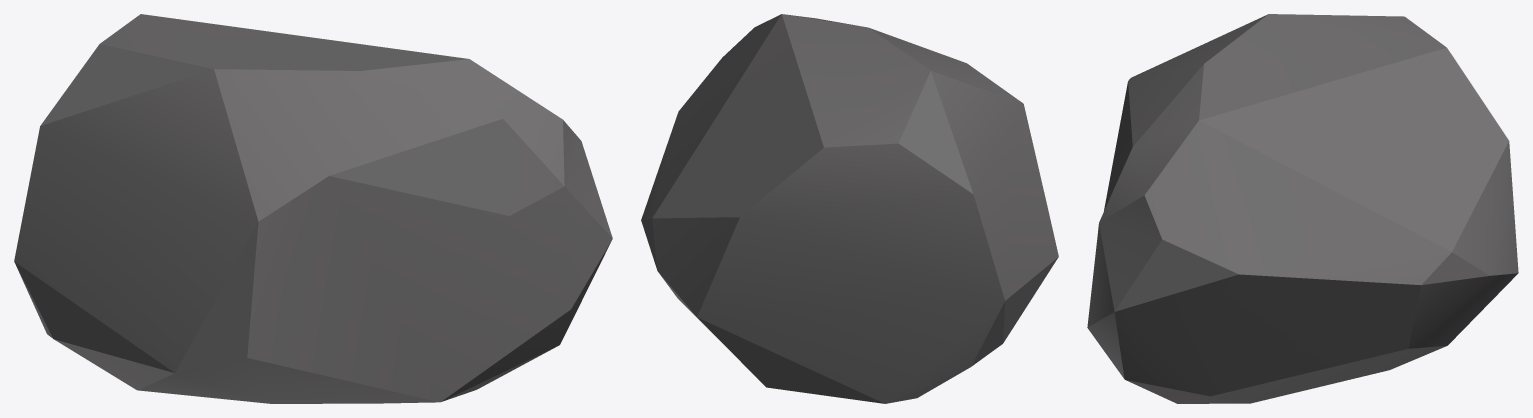
The model's file is RockH.fbx.
3 renders of one model, left to right at view 1: azimuth 30°, elevation 25°; view 2: azimuth 150°, elevation 25°; view 3: azimuth 270°, elevation 25°, orthographic. The views are drawn at different scales.
Parts seen in each view (by area): view 1: RockH; view 2: RockH; view 3: RockH.
Boxes of the visible parts, bbox=[...] form: RockH: bbox=[14, 14, 612, 403]; RockH: bbox=[641, 14, 1058, 403]; RockH: bbox=[1087, 14, 1518, 403].
Bounding box in the file's own units: 162 × 125 × 148.
